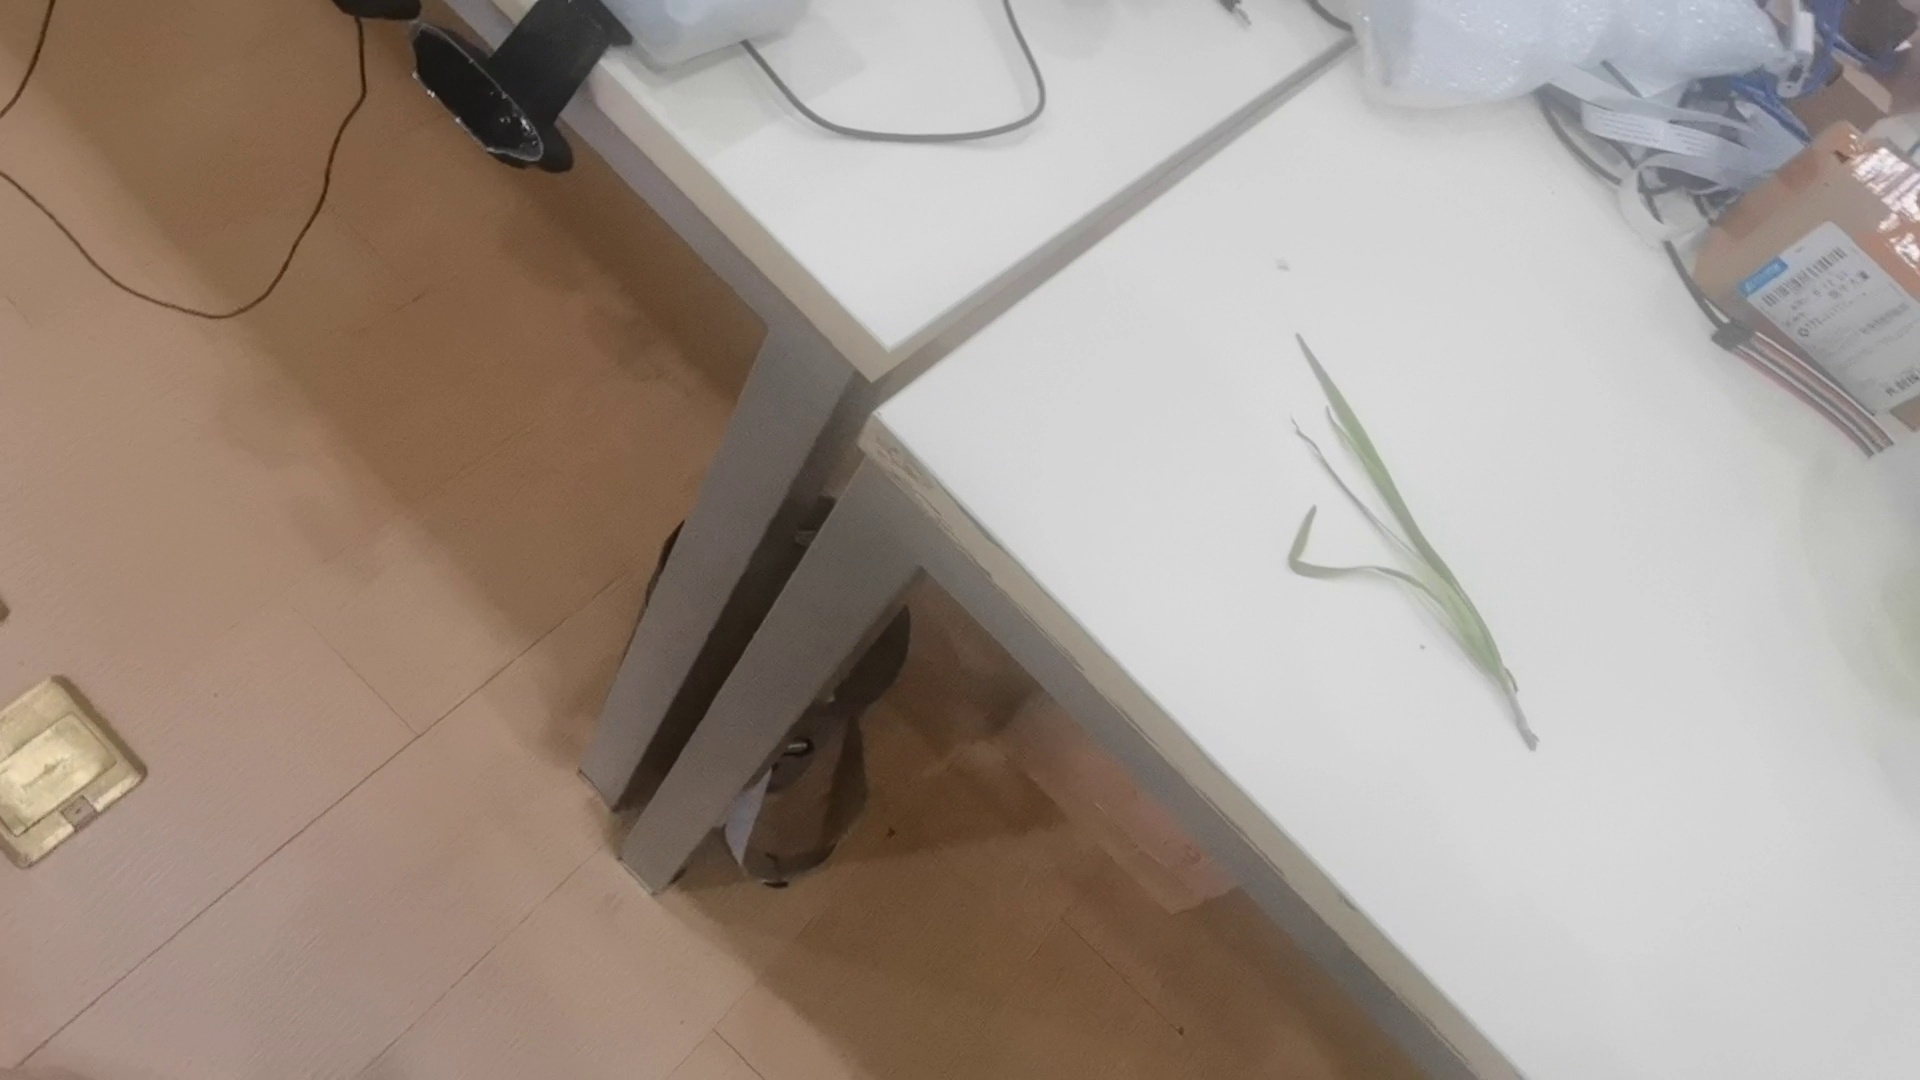chives: (1255, 328, 1560, 756)
